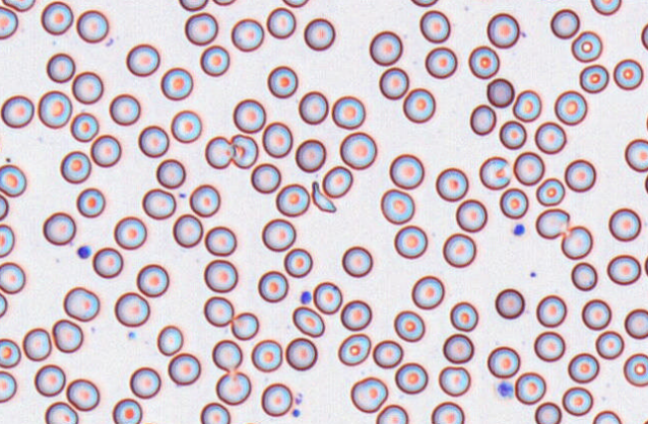PLT: (494, 380, 515, 400), (299, 291, 314, 306), (77, 245, 92, 258), (513, 222, 526, 237), (291, 408, 303, 419)
RBC: (350, 376, 388, 413), (339, 131, 376, 169), (37, 90, 72, 128), (63, 286, 99, 321), (389, 153, 424, 189), (114, 291, 149, 327), (215, 371, 251, 405), (380, 188, 414, 224), (275, 183, 310, 217), (232, 98, 266, 133), (393, 224, 427, 259), (442, 232, 476, 267), (402, 87, 435, 123), (486, 12, 519, 48), (261, 121, 293, 158), (0, 94, 34, 128), (42, 211, 76, 245), (331, 95, 365, 129), (260, 382, 293, 417), (261, 218, 296, 251), (40, 0, 73, 35), (203, 259, 238, 292), (369, 30, 402, 65), (554, 90, 587, 125), (167, 352, 201, 385), (184, 12, 218, 45), (411, 275, 444, 309), (113, 215, 146, 249), (337, 333, 371, 366), (486, 345, 520, 378), (230, 18, 264, 51), (435, 167, 468, 201), (136, 263, 169, 297), (126, 43, 160, 76), (608, 207, 641, 241), (51, 318, 83, 353), (141, 187, 176, 219), (66, 378, 99, 411), (160, 67, 193, 100), (294, 138, 326, 172), (479, 156, 511, 190), (394, 362, 428, 394), (560, 225, 592, 259), (455, 198, 487, 232), (76, 9, 108, 43), (564, 158, 596, 192), (606, 254, 641, 285), (514, 371, 546, 404), (303, 17, 335, 50), (285, 337, 317, 370), (71, 71, 103, 104), (424, 46, 457, 78), (137, 124, 169, 157), (534, 121, 566, 154), (250, 339, 282, 372), (535, 294, 567, 327), (535, 208, 569, 239), (172, 213, 203, 247), (189, 183, 220, 217), (513, 151, 544, 185), (419, 9, 450, 43), (170, 109, 201, 143), (468, 45, 499, 79), (292, 305, 324, 337), (129, 366, 161, 398), (393, 310, 425, 342), (108, 93, 140, 125), (340, 299, 372, 331), (322, 165, 353, 198), (60, 150, 91, 183), (90, 134, 121, 167), (267, 65, 298, 98), (298, 90, 328, 124), (211, 339, 242, 371), (203, 295, 234, 327), (34, 364, 65, 396), (438, 365, 470, 396), (204, 225, 236, 256), (567, 352, 599, 383), (533, 330, 565, 361), (571, 30, 602, 62), (257, 270, 288, 302), (341, 245, 372, 277), (92, 246, 123, 278), (378, 66, 408, 99), (266, 6, 296, 39), (312, 281, 342, 314), (204, 135, 233, 169), (22, 327, 51, 361), (230, 133, 258, 168), (250, 162, 281, 193), (561, 386, 593, 416), (199, 44, 229, 76), (581, 298, 611, 330), (613, 58, 643, 90), (512, 89, 541, 122), (442, 333, 473, 363), (550, 8, 580, 39), (494, 288, 524, 319), (499, 187, 528, 219), (155, 158, 185, 188), (70, 111, 99, 142), (372, 339, 403, 368), (46, 52, 75, 83), (0, 163, 26, 197), (535, 177, 565, 206), (76, 187, 105, 217), (449, 301, 478, 331), (283, 247, 312, 277), (579, 64, 609, 93), (156, 324, 183, 356), (469, 103, 496, 135), (595, 330, 624, 359), (486, 77, 514, 107), (0, 261, 25, 294), (623, 352, 647, 386), (231, 311, 259, 340), (499, 119, 526, 149), (570, 261, 597, 291), (624, 138, 647, 172), (112, 397, 142, 423), (44, 401, 78, 423), (430, 401, 464, 423), (624, 308, 647, 339), (0, 337, 21, 368), (200, 402, 230, 423), (375, 404, 408, 423), (0, 5, 18, 39), (534, 401, 561, 423), (0, 370, 16, 402), (590, 0, 622, 15), (0, 223, 14, 257), (592, 410, 622, 423), (2, 0, 35, 11), (178, 0, 208, 11), (0, 193, 8, 220), (640, 22, 647, 50), (410, 0, 438, 7), (281, 0, 308, 7), (0, 292, 7, 317), (212, 0, 236, 6), (643, 253, 648, 276), (644, 171, 648, 194), (536, 0, 563, 3), (0, 129, 3, 154), (645, 110, 648, 133)
Schistocyte: (312, 182, 335, 213)
